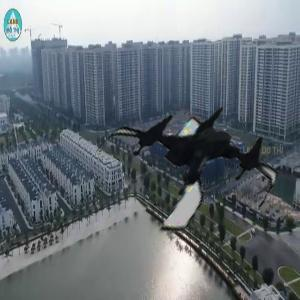drone: (112, 80, 277, 245)
